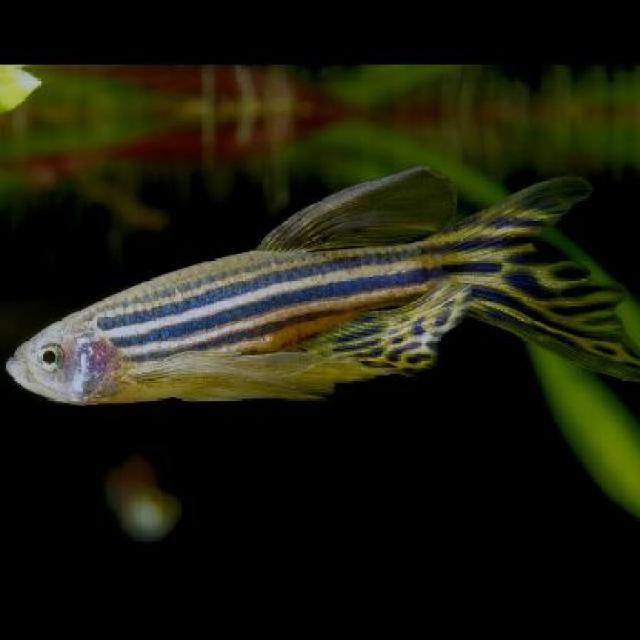ZebraFish: (2, 165, 586, 410)
